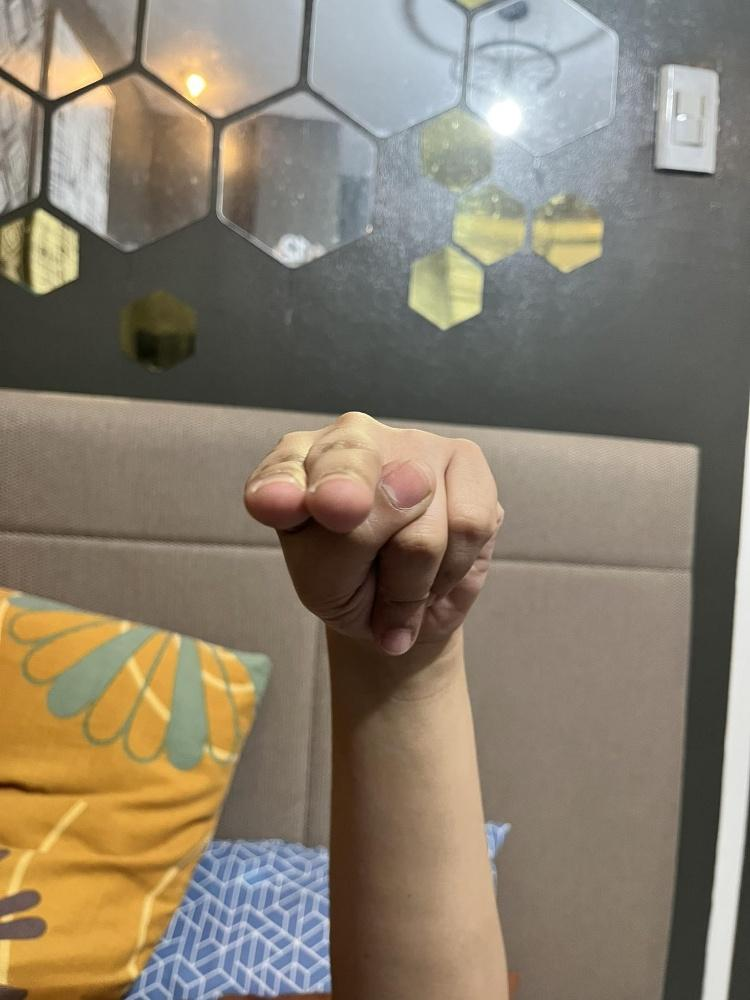n: (245, 412, 503, 655)
